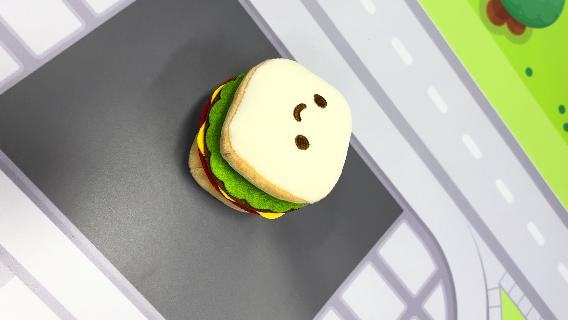sandwich: (187, 56, 355, 220)
